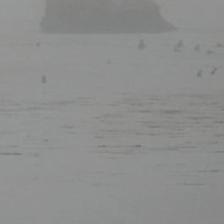surfer: (212, 41, 223, 52), (135, 40, 147, 50), (208, 67, 221, 76), (39, 75, 49, 85), (190, 43, 200, 52), (175, 39, 185, 48), (205, 48, 215, 56), (194, 70, 203, 78), (34, 40, 41, 47)
